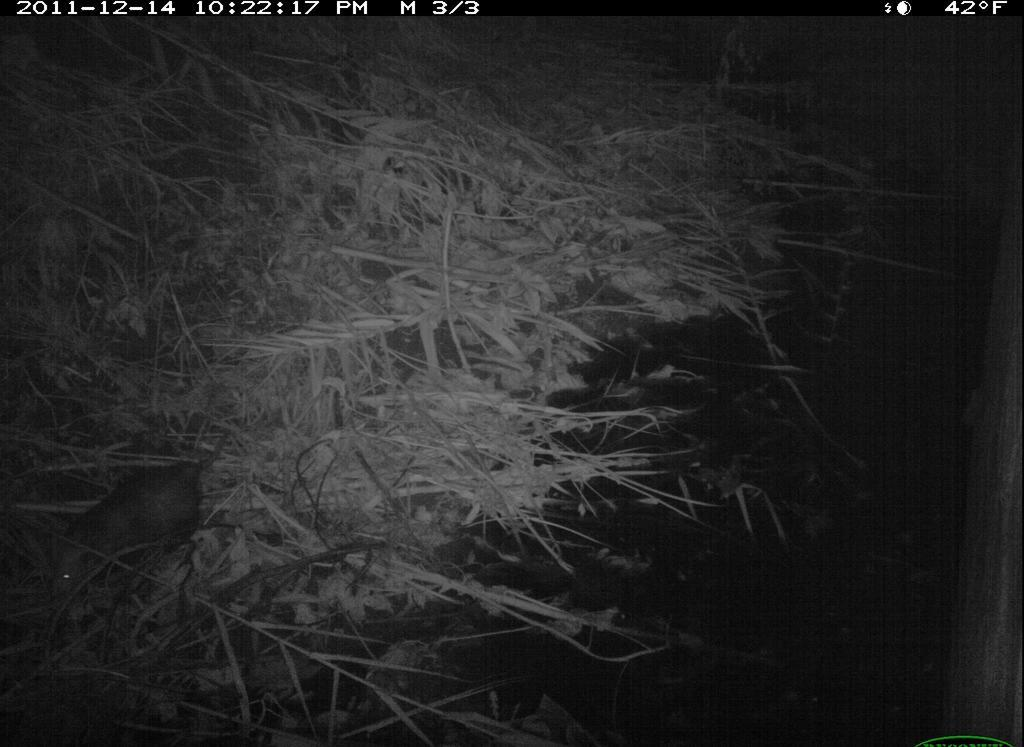opossum: (35, 436, 240, 607)
